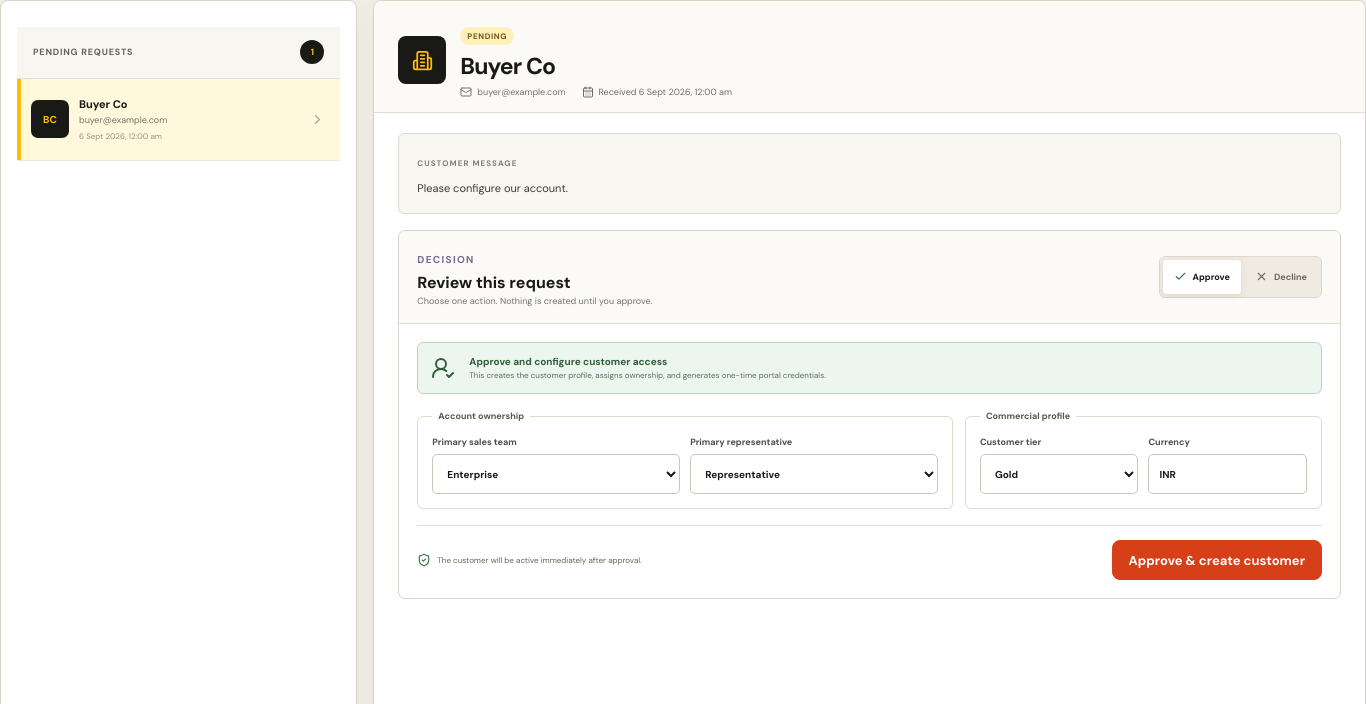
Test: business directory › lets an approver choose the real team and shows returned credentials once
(page scrolled)
Expected: the heading "Buyer Co" is shown, [460,51,555,81]
Click the button "Approve & create customer": (1217, 560) [1112,540,1322,580]
(page scrolled)
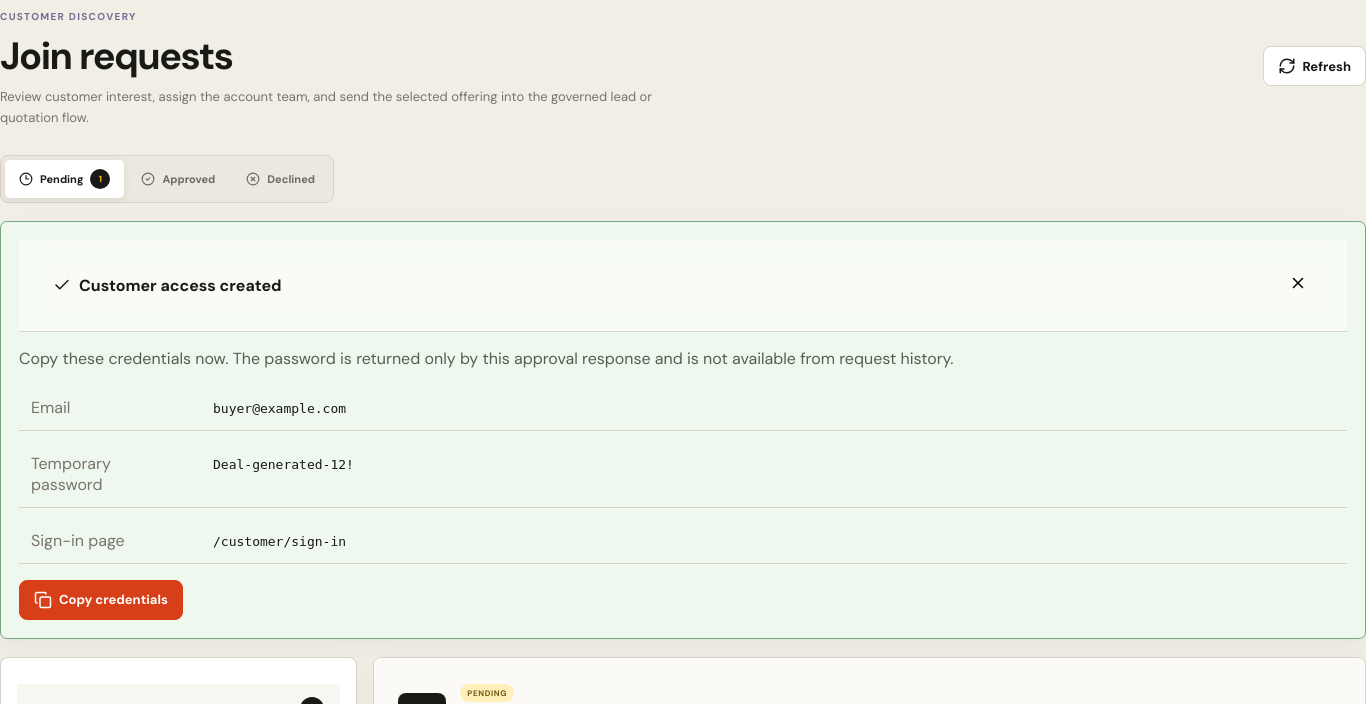
Now the text "Deal-generated-12!" is shown, box [213,457,354,472]
Now the text "returned only by this approval response" is shown, box [19,348,954,369]
